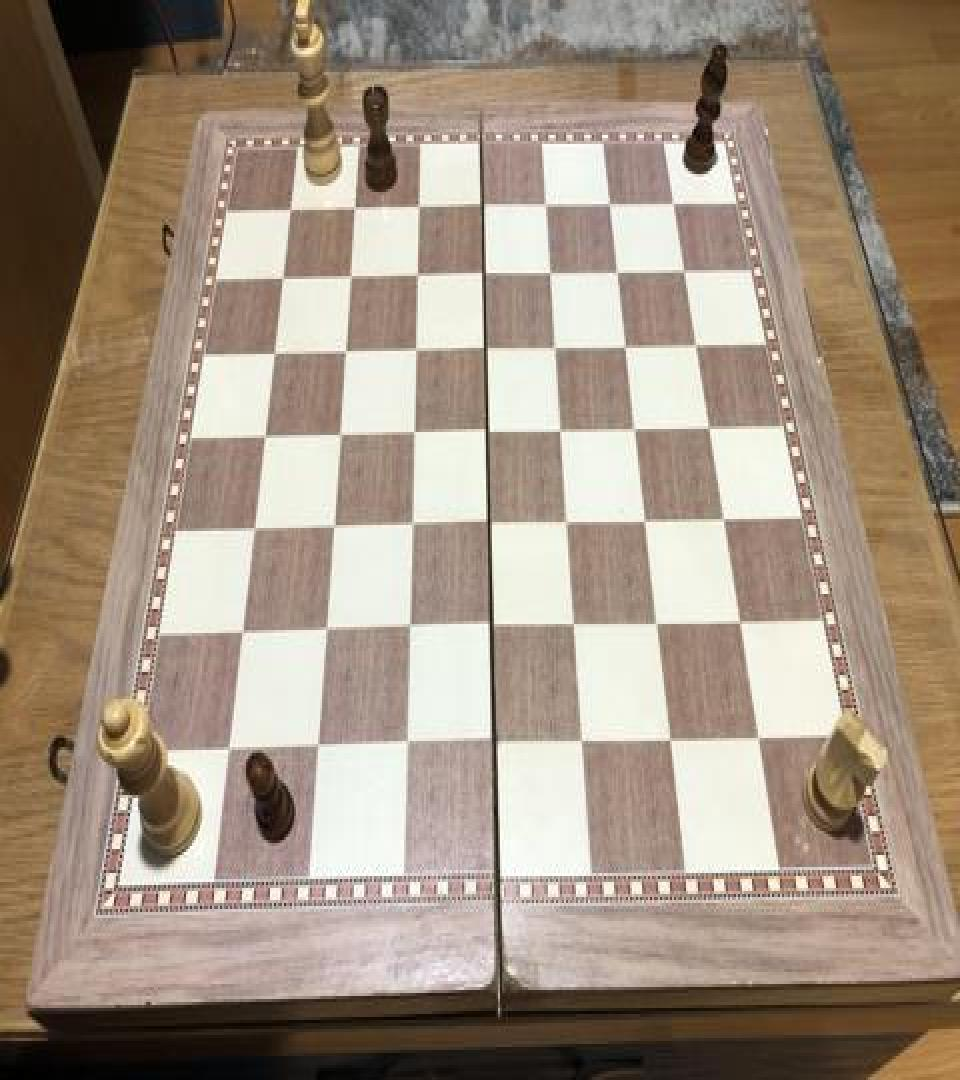xcorner: (482, 610, 506, 647), (749, 718, 773, 755), (664, 184, 688, 220), (600, 186, 624, 222), (471, 189, 495, 225), (407, 190, 431, 226), (342, 190, 366, 226), (277, 192, 301, 228), (675, 254, 699, 290), (608, 255, 632, 291), (540, 255, 564, 291), (473, 256, 497, 292), (406, 258, 430, 294), (270, 261, 294, 297), (687, 327, 711, 363), (546, 330, 570, 366), (475, 332, 499, 368), (404, 333, 428, 369), (333, 334, 357, 370), (262, 336, 286, 372), (700, 410, 724, 446), (551, 414, 575, 450), (477, 416, 501, 452), (402, 417, 426, 453), (327, 418, 351, 454), (252, 420, 276, 456), (714, 501, 738, 537), (636, 504, 660, 540), (558, 506, 582, 542), (479, 507, 503, 543), (400, 510, 424, 546), (321, 512, 345, 548), (242, 513, 266, 549), (731, 604, 755, 640), (648, 606, 672, 642), (565, 609, 589, 645), (398, 614, 422, 650), (315, 615, 339, 651), (231, 618, 255, 654), (661, 722, 685, 758), (573, 724, 597, 760), (485, 726, 509, 762), (396, 729, 420, 765), (307, 732, 331, 768), (218, 735, 242, 771), (536, 188, 560, 223), (338, 260, 362, 295), (616, 329, 640, 364), (626, 413, 650, 448)
